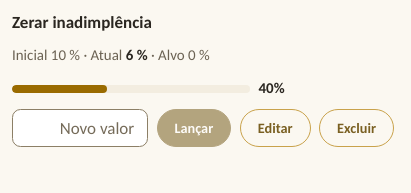
Scenario: lançar texto não grava 0
Type "dez" into the field named "Valor atual de Zerar inadimplência" at (80, 128), box [12,109,148,147]
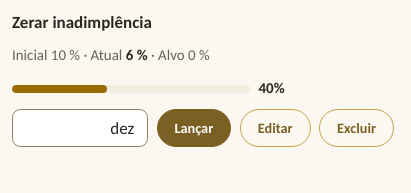
Click the button "Lançar" at (194, 128), box [156,109,231,147]
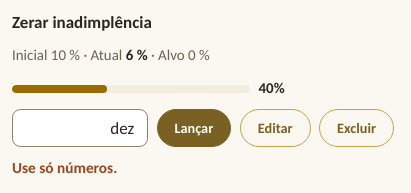
Expected: the message reads "Use só números.", [12,158,117,177]
